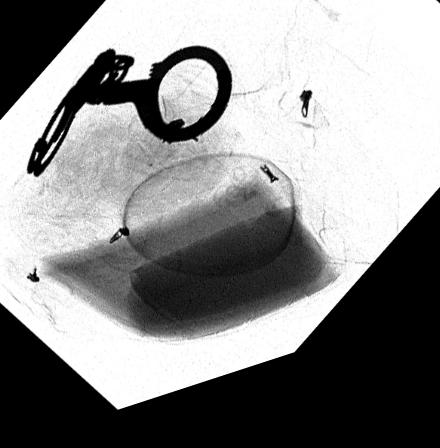HandCuffs: (25, 56, 232, 180)
